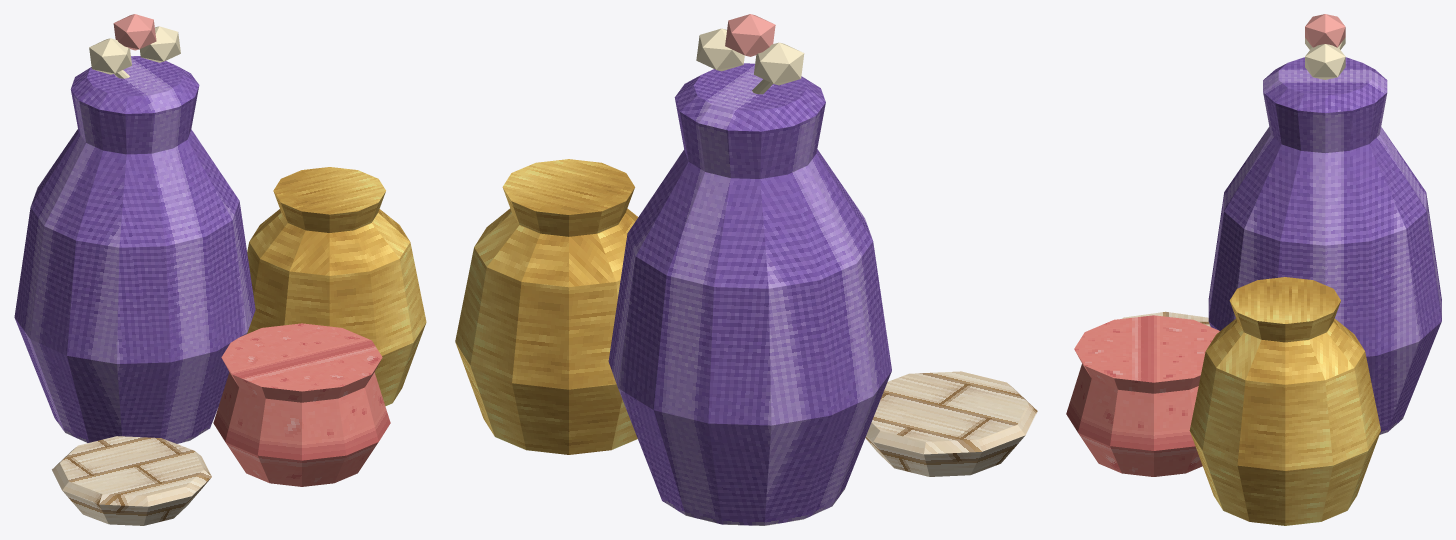
Rendered from tower_pots.glb.
The picture shows the model from 3 angles, left to right: view 1: azimuth 30°, elevation 25°; view 2: azimuth 150°, elevation 25°; view 3: azimuth 270°, elevation 25°; orthographic projection. The views are drawn at different scales.
Parts seen in each view (by area): view 1: Pots; view 2: Pots; view 3: Pots.
Boxes of the visible parts, x1,y1,x2,y2 form: Pots: (14,14,426,525); Pots: (455,14,1037,525); Pots: (1066,14,1441,525).
Bounding box in the file's own units: 1.18 × 1.12 × 0.9425.
Materials: 7 (4 with a texture image).
